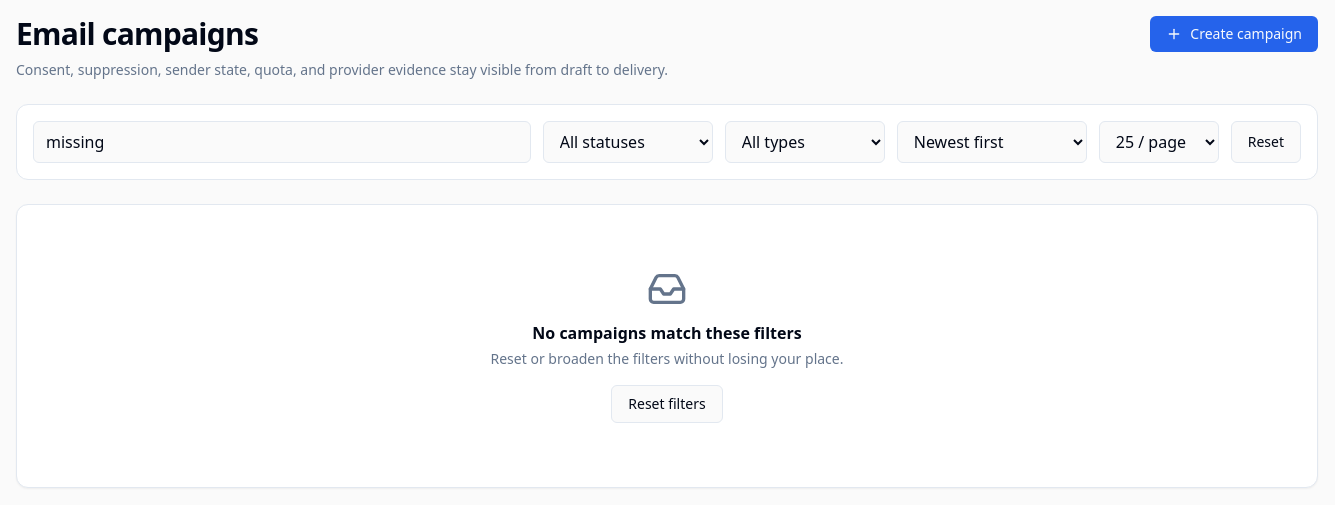
Test case: email marketing page families › keeps URL filters distinct from first-use empty
Expected: the heading "No campaigns match these filters" is shown, [532, 322, 802, 344]
Click the button "Reset filters".
click(667, 404)  # box [611, 385, 723, 423]
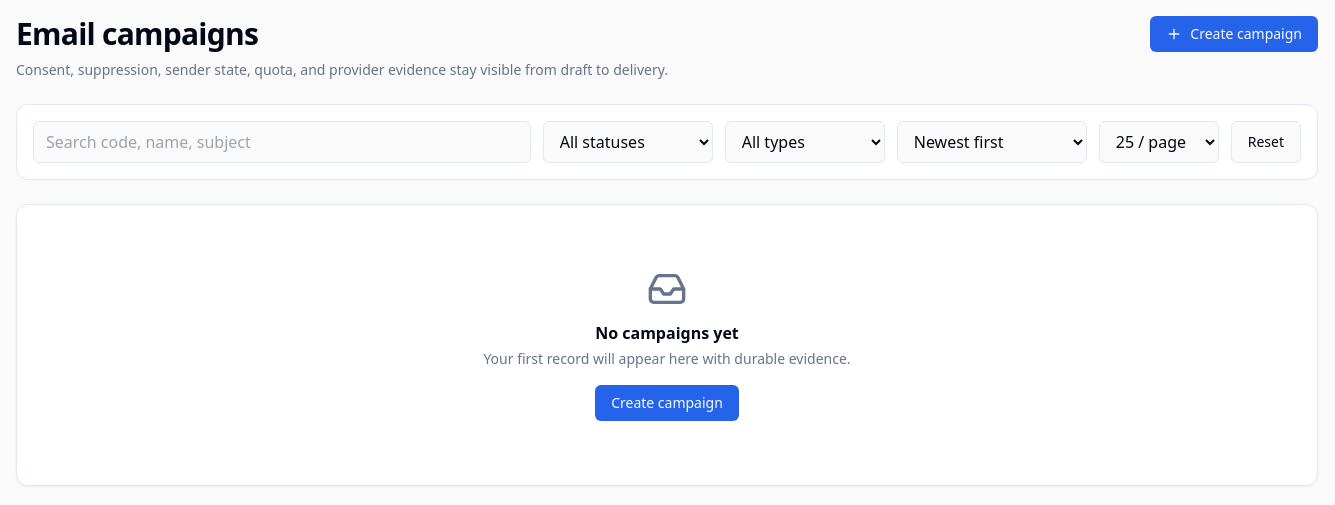
Expected: the field named "Search campaigns" is empty, [33, 121, 531, 163]
